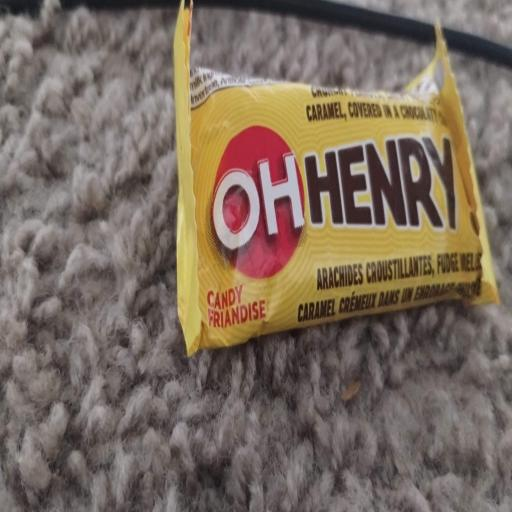chocolate: (175, 3, 498, 354)
